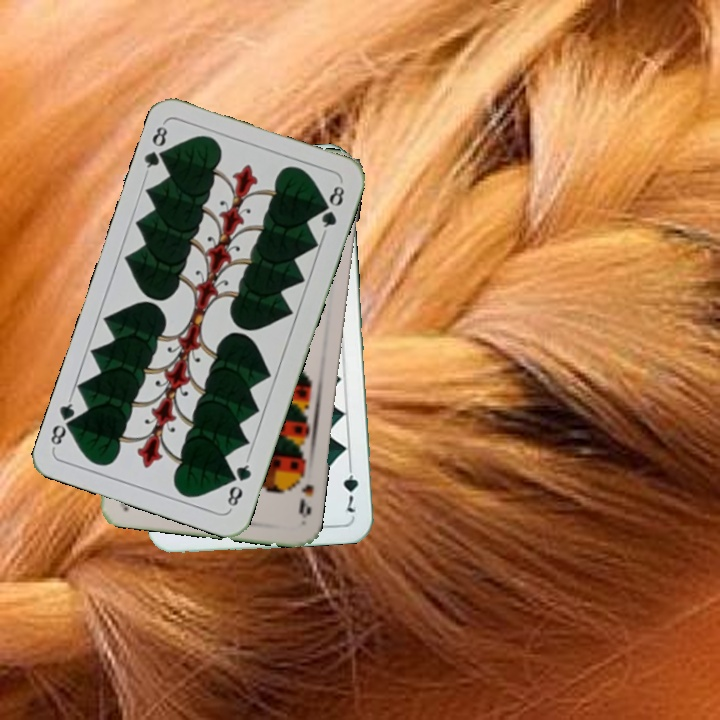G7: (339, 458, 361, 515)
G8: (140, 120, 172, 177), (223, 455, 254, 512)
S9: (291, 463, 316, 521)
